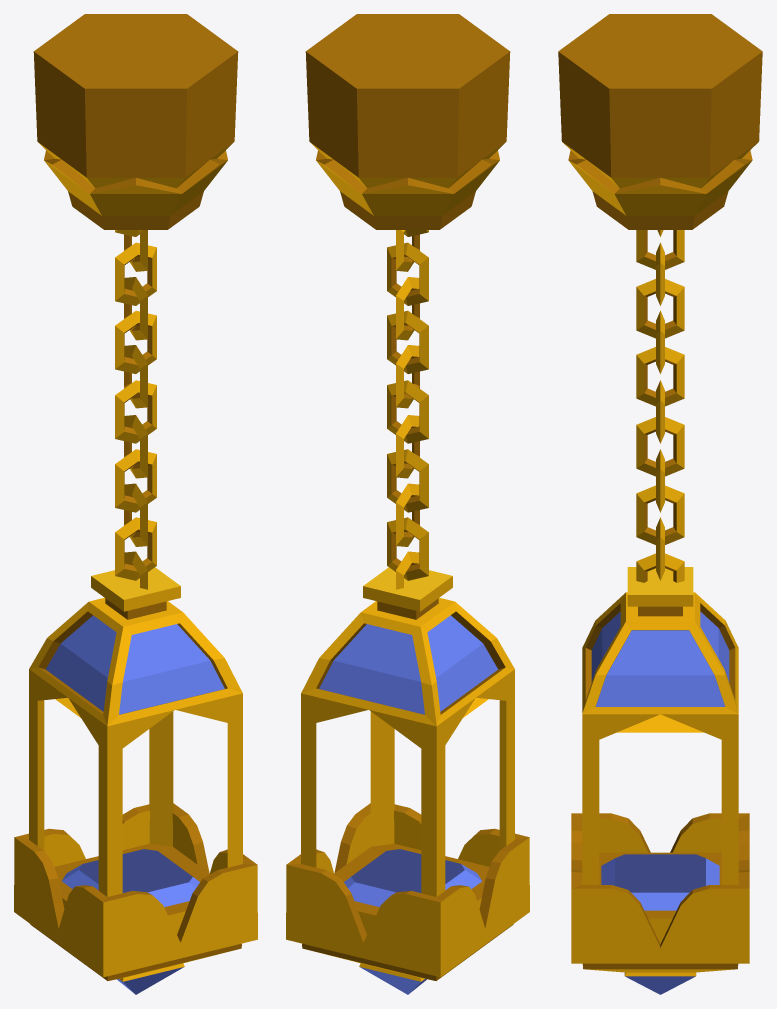
Rendered from Ceiling_Lamp_02.glb.
3 renders of one model, left to right at view 1: azimuth 30°, elevation 25°; view 2: azimuth 150°, elevation 25°; view 3: azimuth 270°, elevation 25°, orthographic.
Parts seen in each view (by area): view 1: Ceiling_Lamp_02; view 2: Ceiling_Lamp_02; view 3: Ceiling_Lamp_02.
Part boxes in pixels (x1,y1,x2,y2): Ceiling_Lamp_02: (14, 14, 257, 994); Ceiling_Lamp_02: (286, 14, 529, 994); Ceiling_Lamp_02: (558, 14, 762, 994).
Size of what is drawn, in the model's own units: 0.5284 by 2.83 by 0.5566.
Materials: 1 (1 with a texture image).
